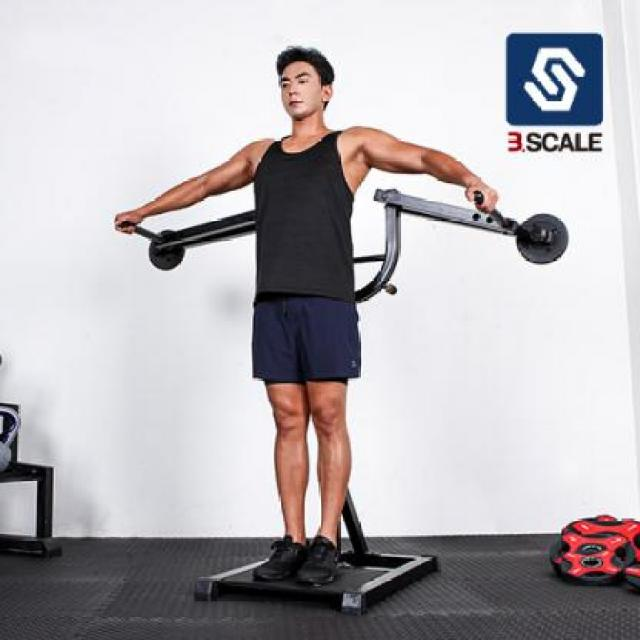lateral raises machine: (117, 190, 571, 618)
